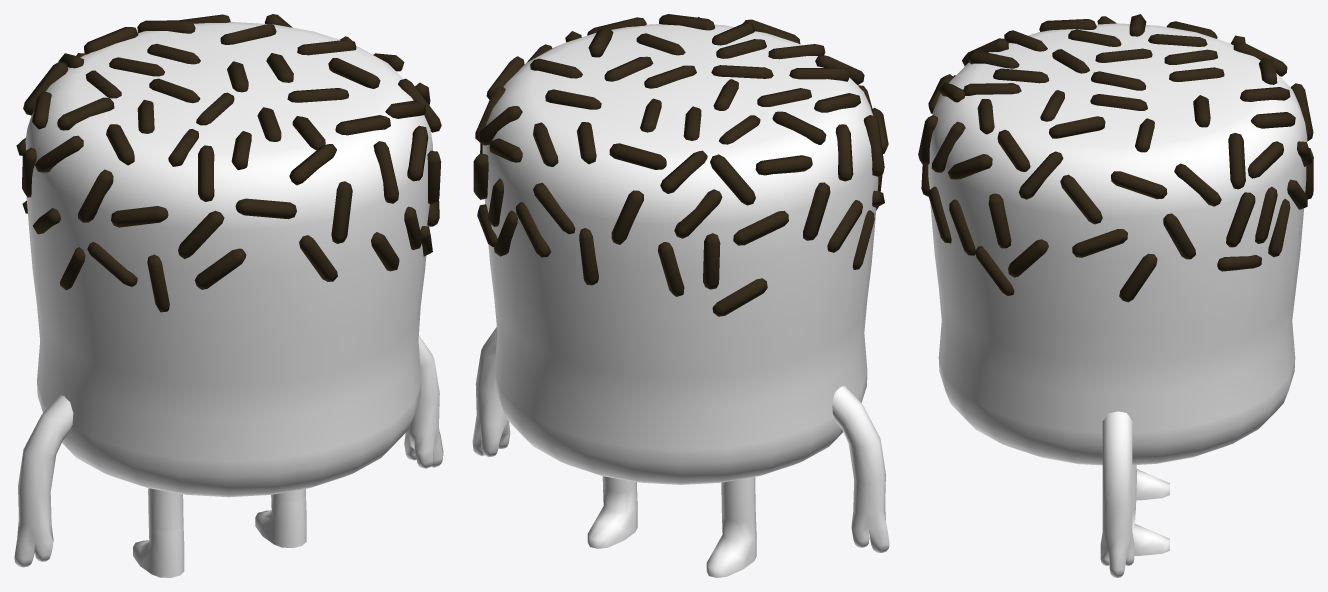
File: MM01_Hank.fbx
3 renders of one model, left to right at view 1: azimuth 30°, elevation 25°; view 2: azimuth 150°, elevation 25°; view 3: azimuth 270°, elevation 25°, orthographic. The views are drawn at different scales.
Visible parts, largest first — view 1: Connect_1; view 2: Connect_1; view 3: Connect_1.
Boxes of the visible parts, x1,y1,x2,y2 form: Connect_1: (14, 14, 443, 577); Connect_1: (472, 14, 889, 577); Connect_1: (918, 14, 1313, 577).
Size of the model in its own units: 24.88 by 26.79 by 21.35.
1 material, 1 textured.
